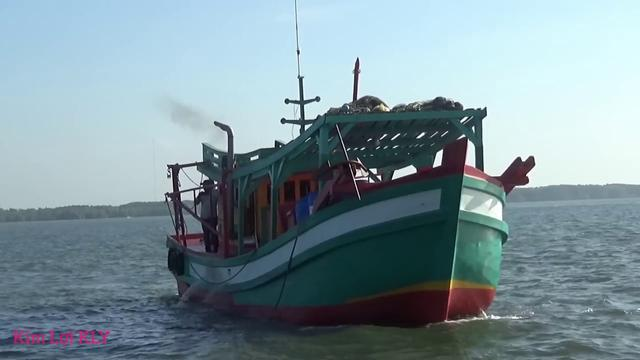Ship: (168, 111, 537, 333)
